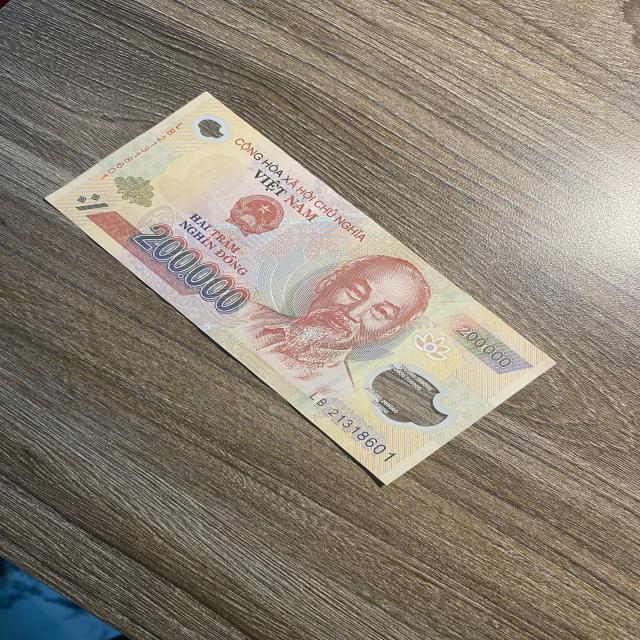200 000 VND: (39, 80, 562, 486)
